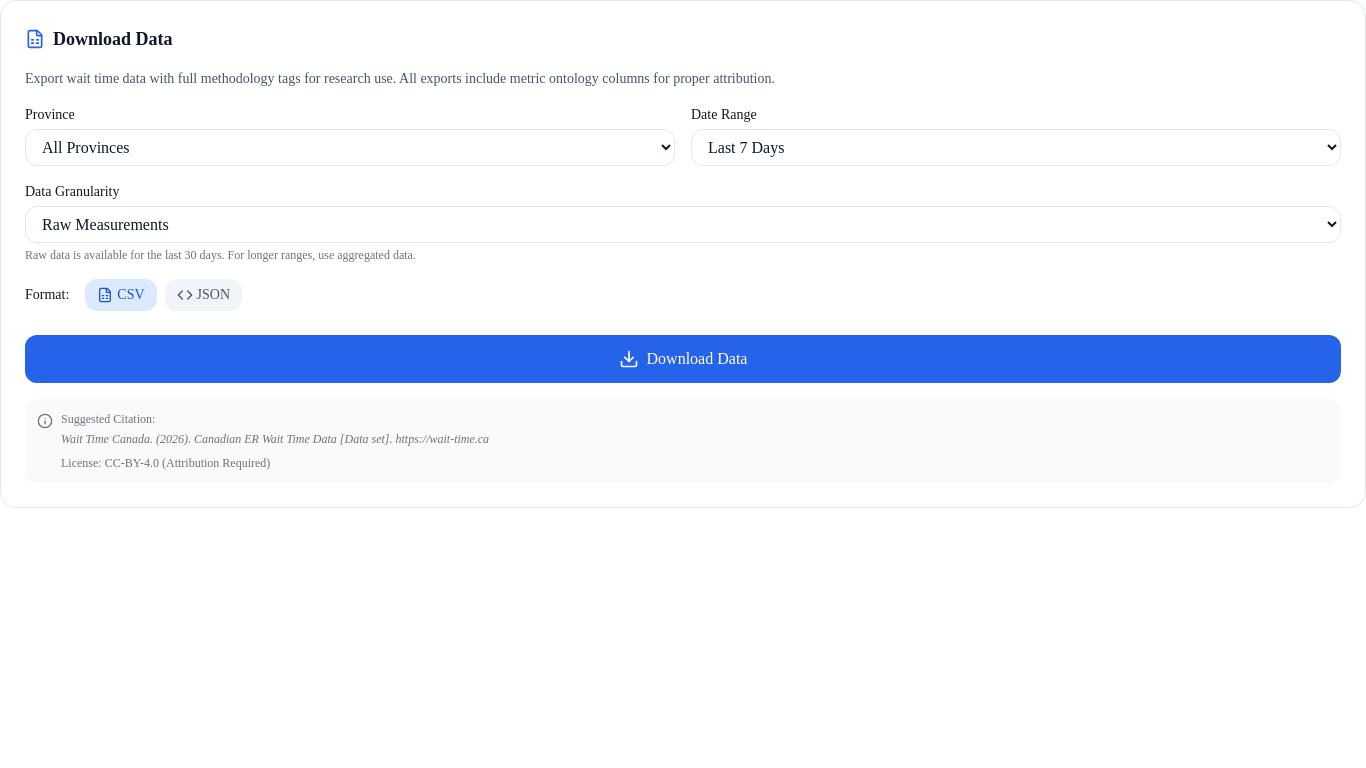
Test case: DataExport › download functionality › rejects a same-origin next link that changes the export filters
The image size is (1366, 768).
Click the button "Download Data".
click(683, 359)  # box [25,335,1341,383]
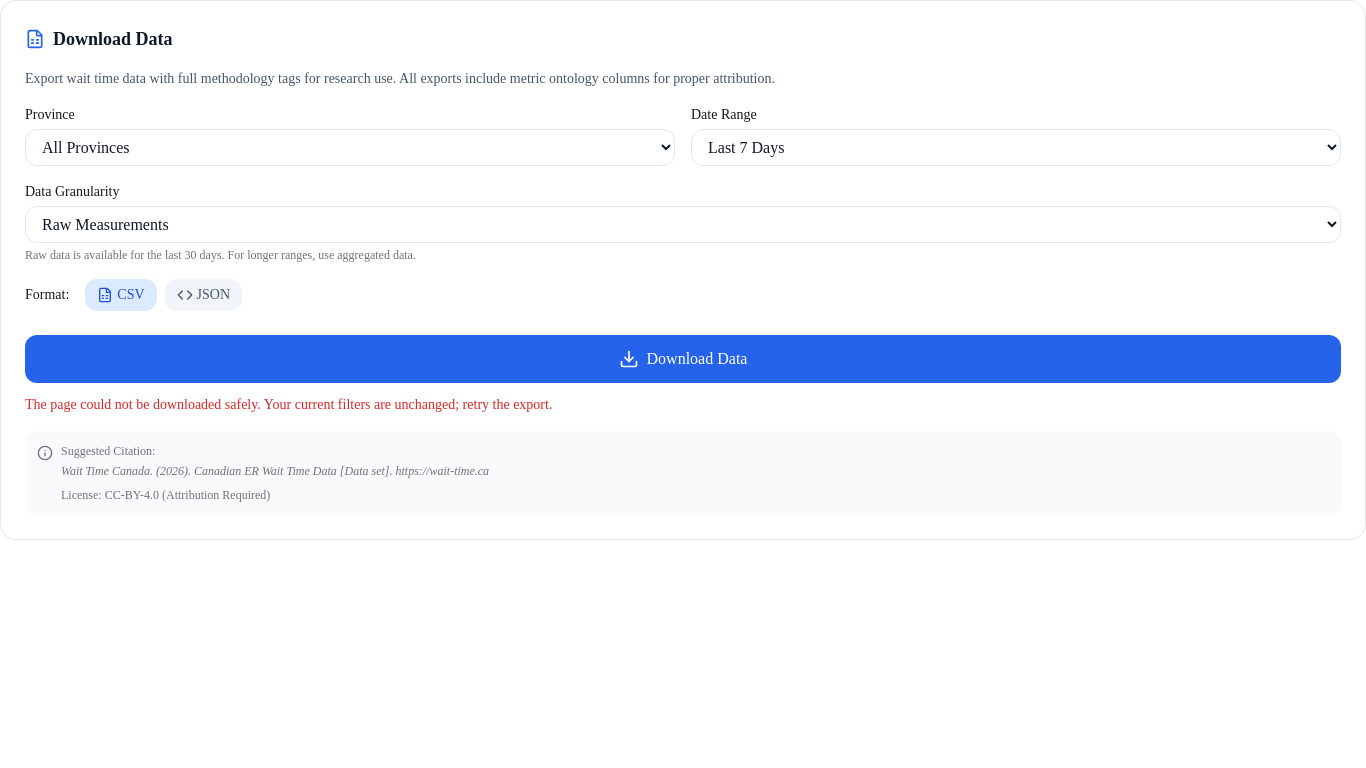
Check: the message shows "could not be downloaded safely", box [25,397,552,412]
